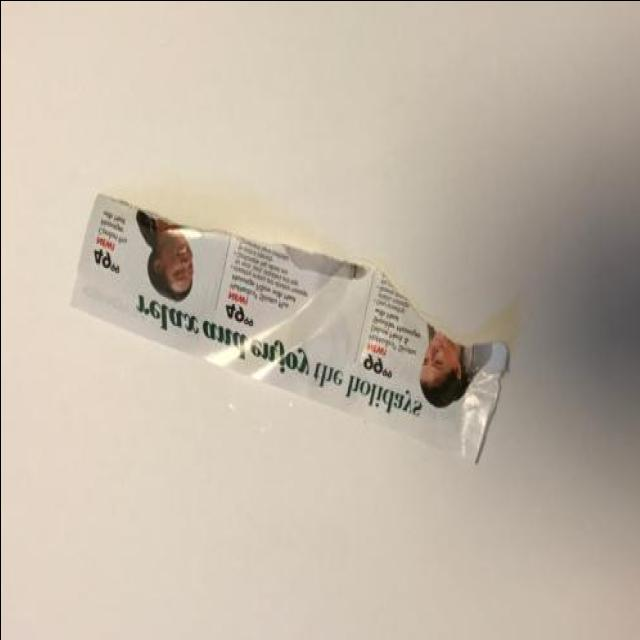kertas: (65, 190, 512, 467)
